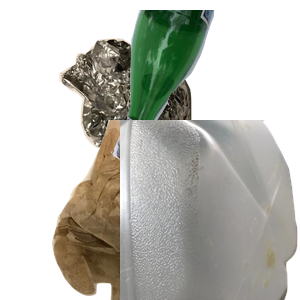glass: (109, 10, 300, 167)
metal: (57, 36, 241, 216)
plastic: (120, 120, 300, 300)
trash: (50, 120, 285, 300)
